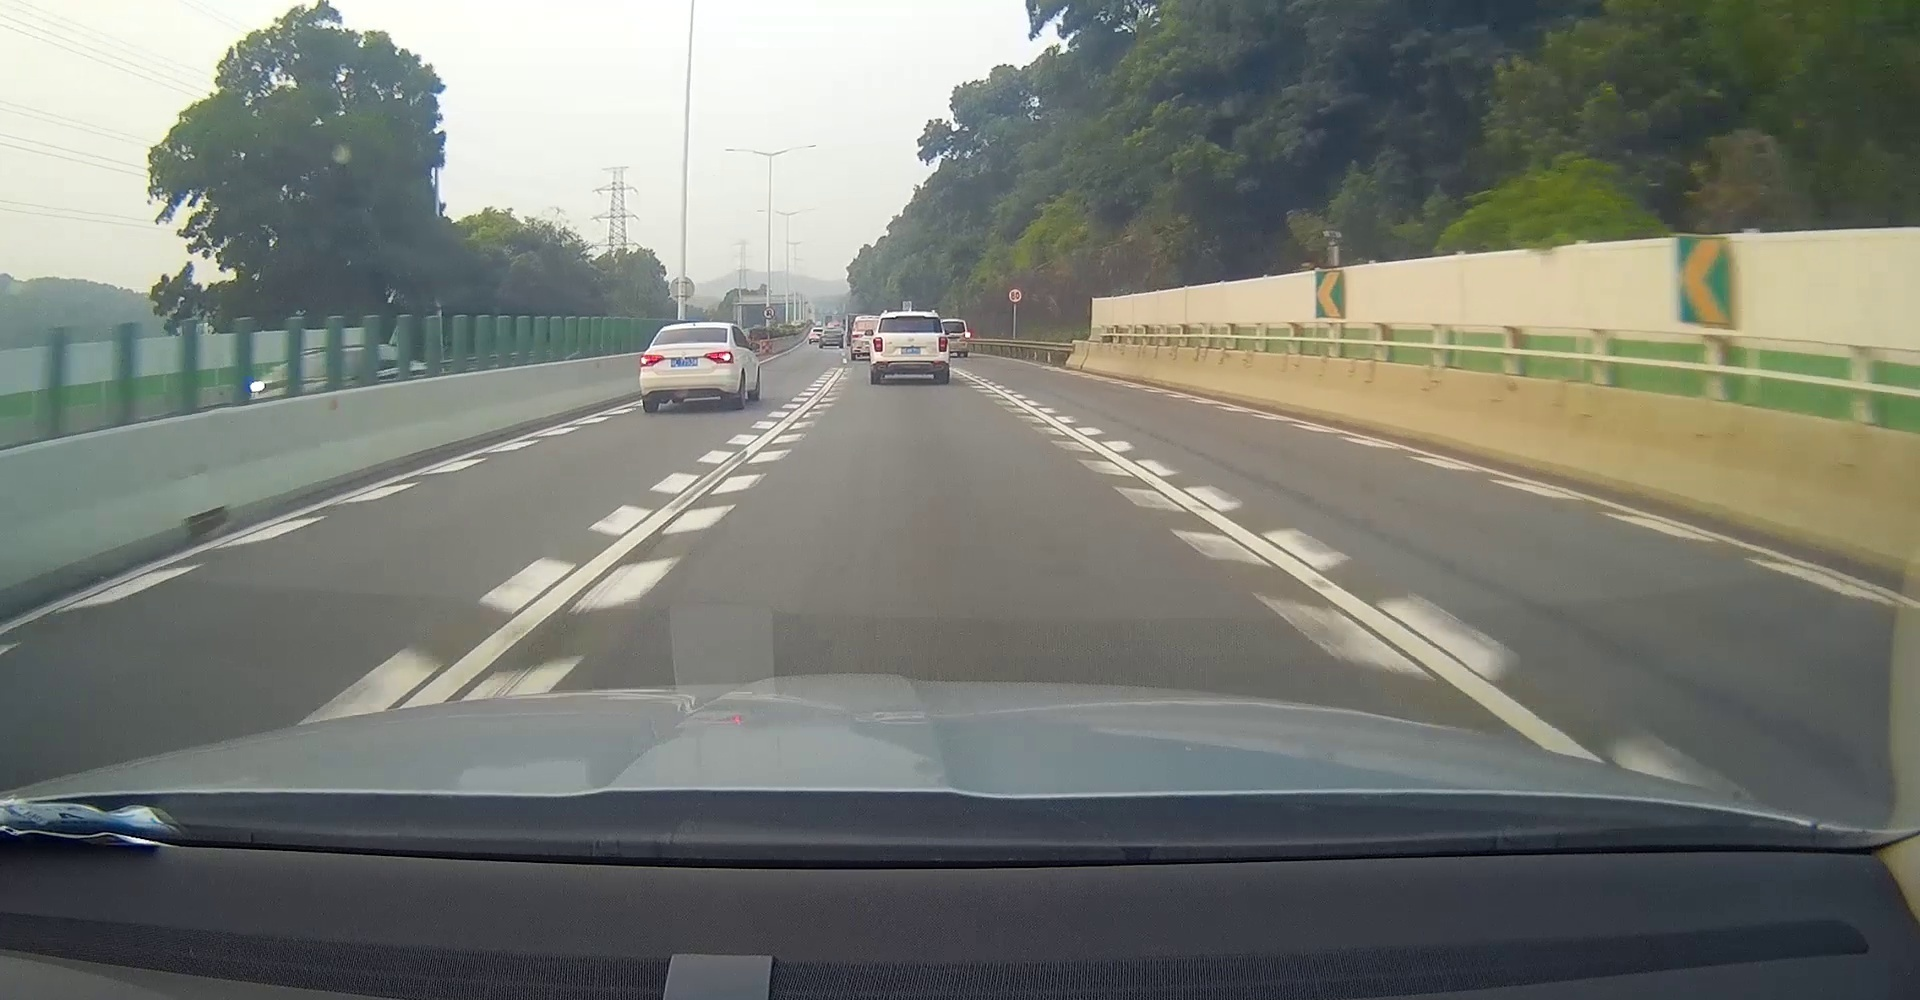L_light: (640, 355, 664, 365), (872, 338, 884, 352)
R_light: (703, 352, 734, 364), (937, 336, 949, 353)
T_light: (897, 315, 923, 319), (676, 339, 697, 343)
day-brake: (640, 321, 737, 414)
day-no: (870, 311, 949, 385)
